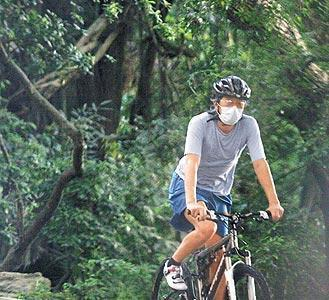yes_mask: (204, 73, 253, 127)
